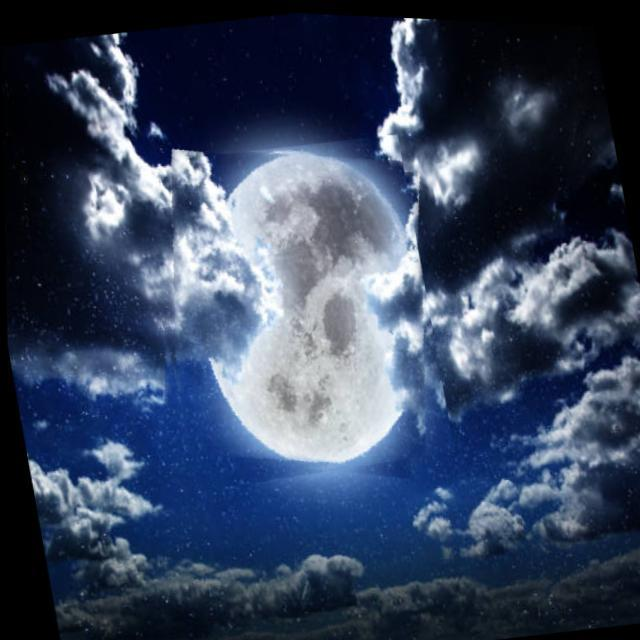moon: (125, 122, 455, 500)
